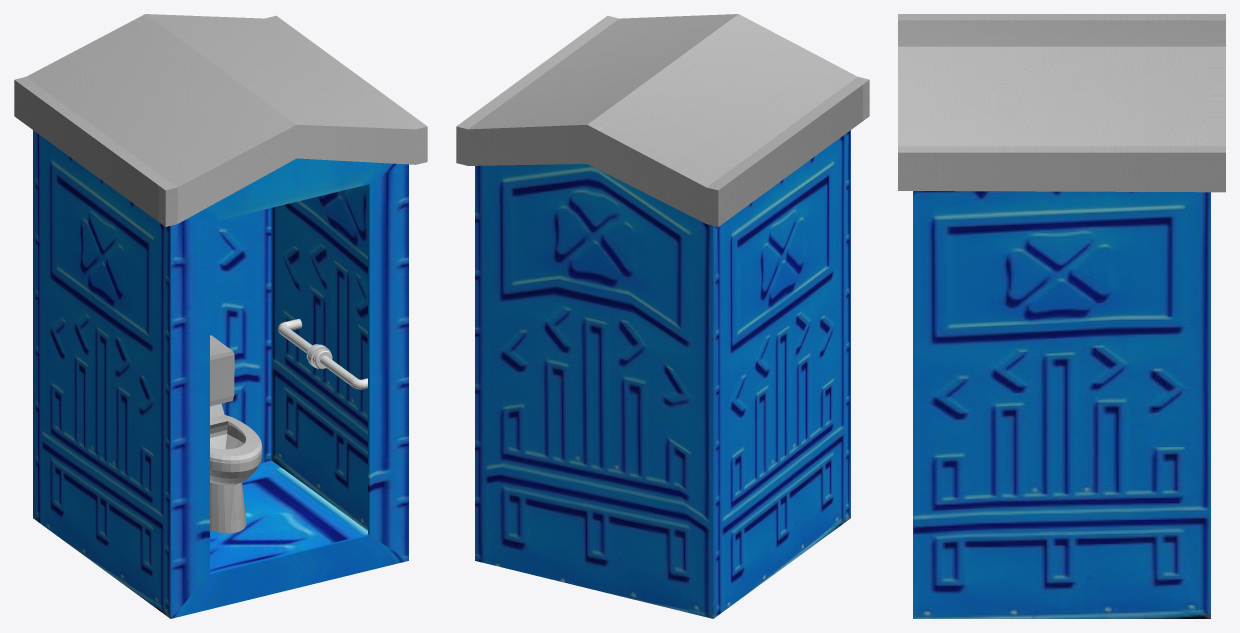
Rendered from cubiculo.fbx.
3 views of the same model, side by side, from view 1: azimuth 30°, elevation 25°; view 2: azimuth 150°, elevation 25°; view 3: azimuth 270°, elevation 25° (orthographic). The views are drawn at different scales.
Parts seen in each view (by area): view 1: Cube; view 2: Cube; view 3: Cube.
Part boxes in pixels (box(x1,y1,x2,y2)): Cube: box(14, 14, 427, 618); Cube: box(456, 14, 869, 618); Cube: box(898, 14, 1225, 618).
Size of the model in its own units: 880 by 1508 by 880.
9 materials, 9 textured.
